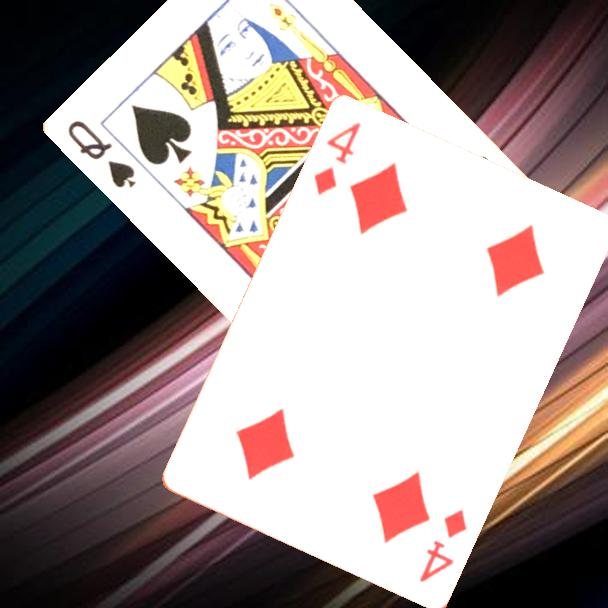d04: (416, 506, 471, 586), (310, 119, 364, 199)
s12: (65, 116, 140, 192)
